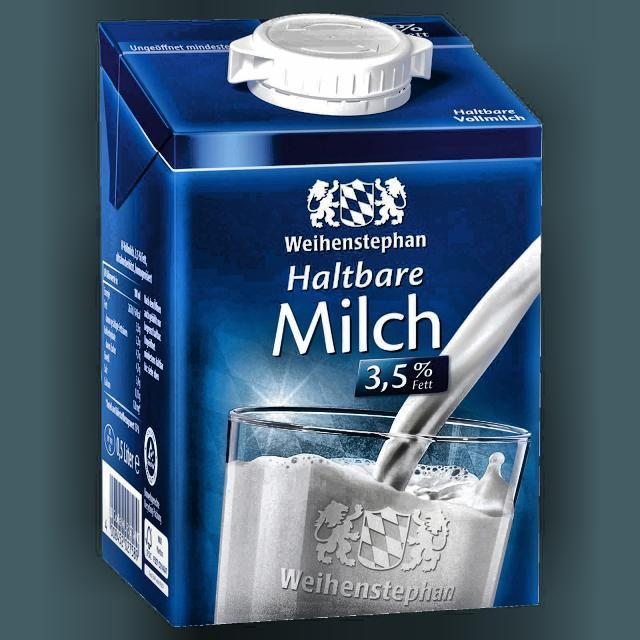cardboard: (99, 13, 543, 626)
